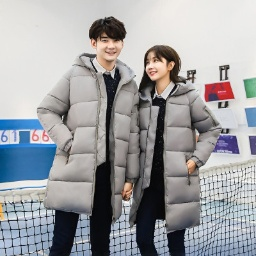face: (140, 44, 182, 85), (89, 17, 127, 62)
